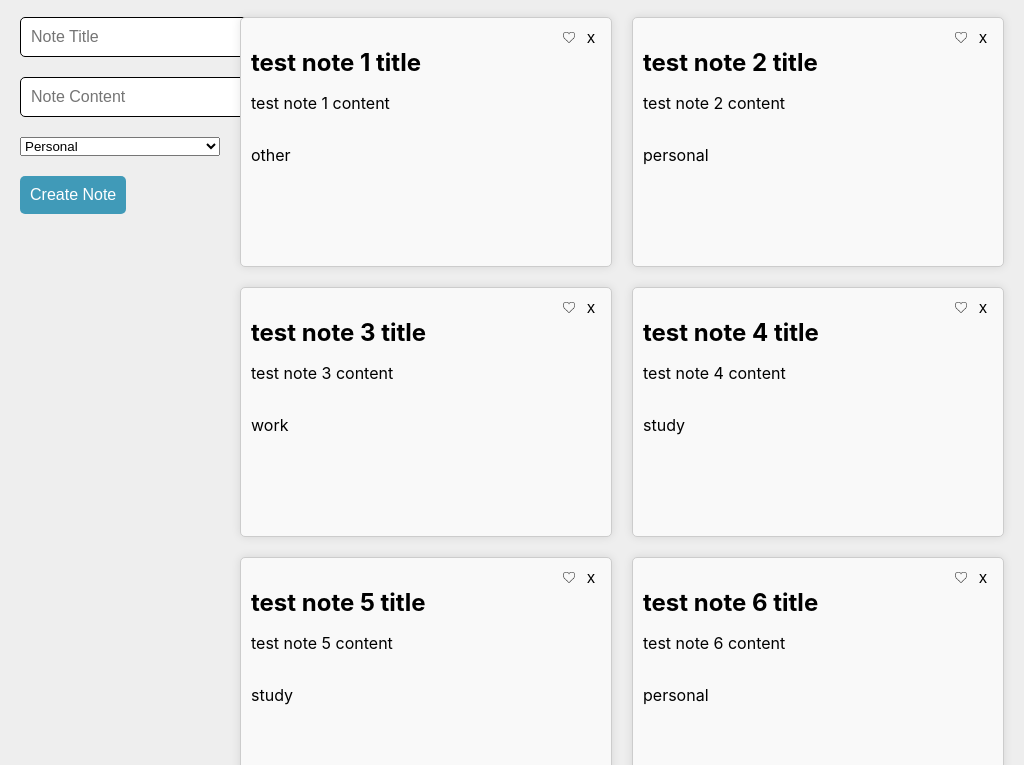
Scenario: Create StickyNote › what you put in form matches what is in the sticky note
Step 1. Type "Test Note" into the field with placeholder "Note Title" → (134, 37), box [20,17,249,57]
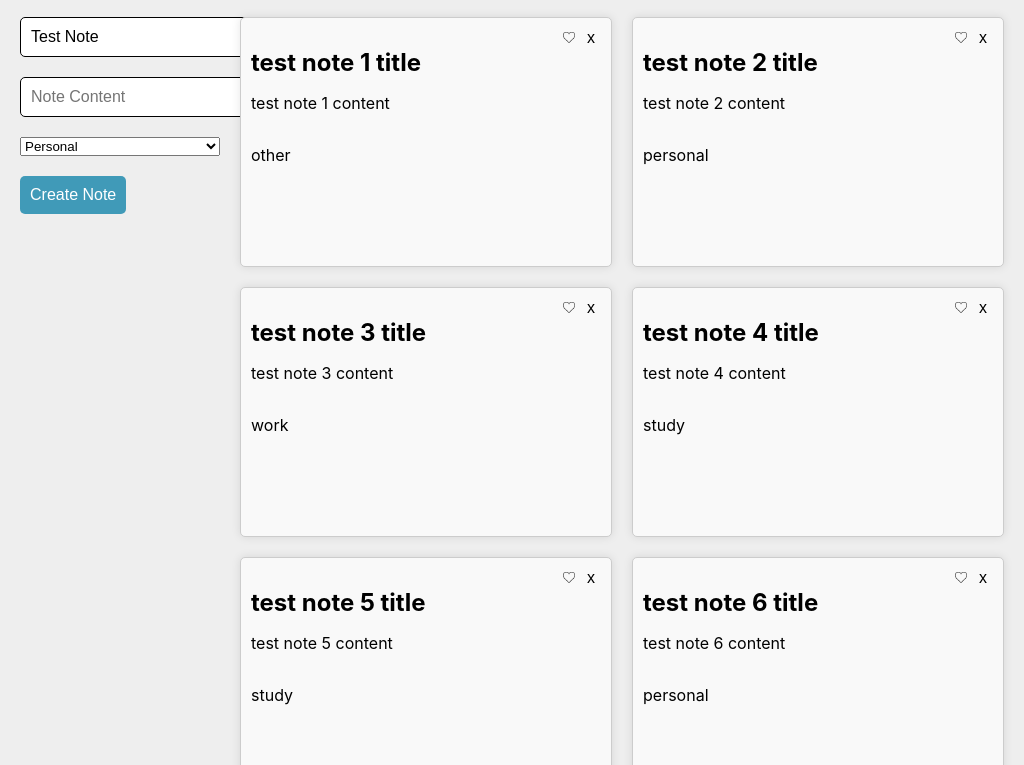
Step 2. Type "Test Content" into the field with placeholder "Note Content" → (134, 97), box [20,77,249,117]
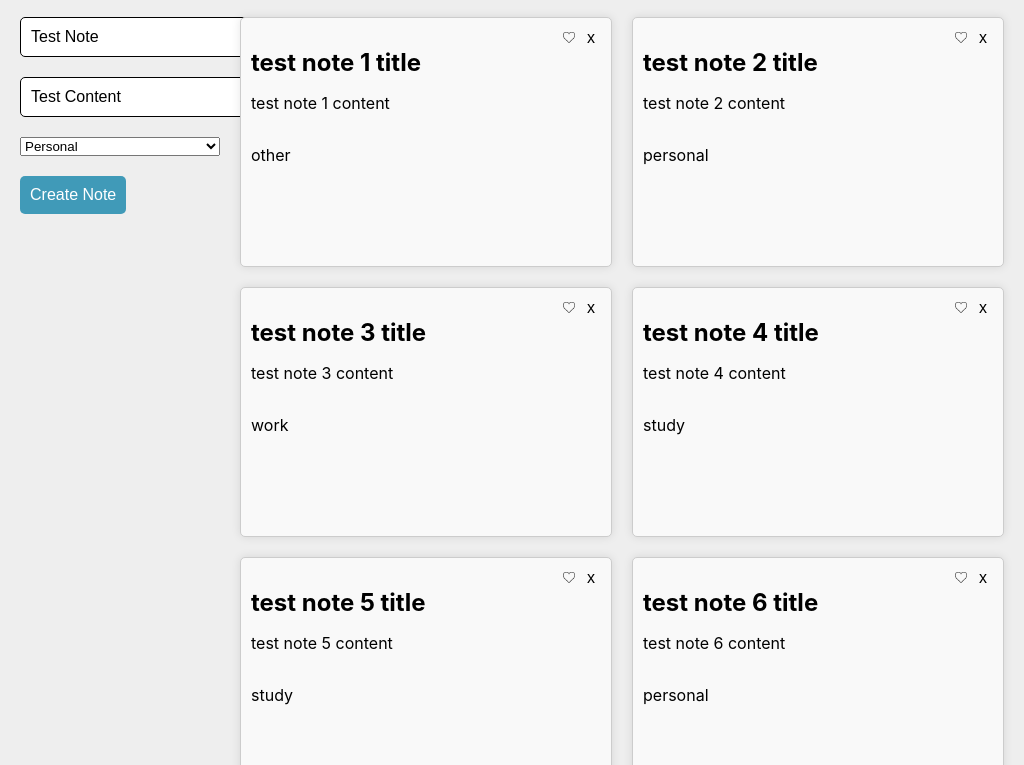
Step 3. Select "Study" in the dropdown with test id "note-label-dropdown" → (120, 146), box [20,137,220,156]
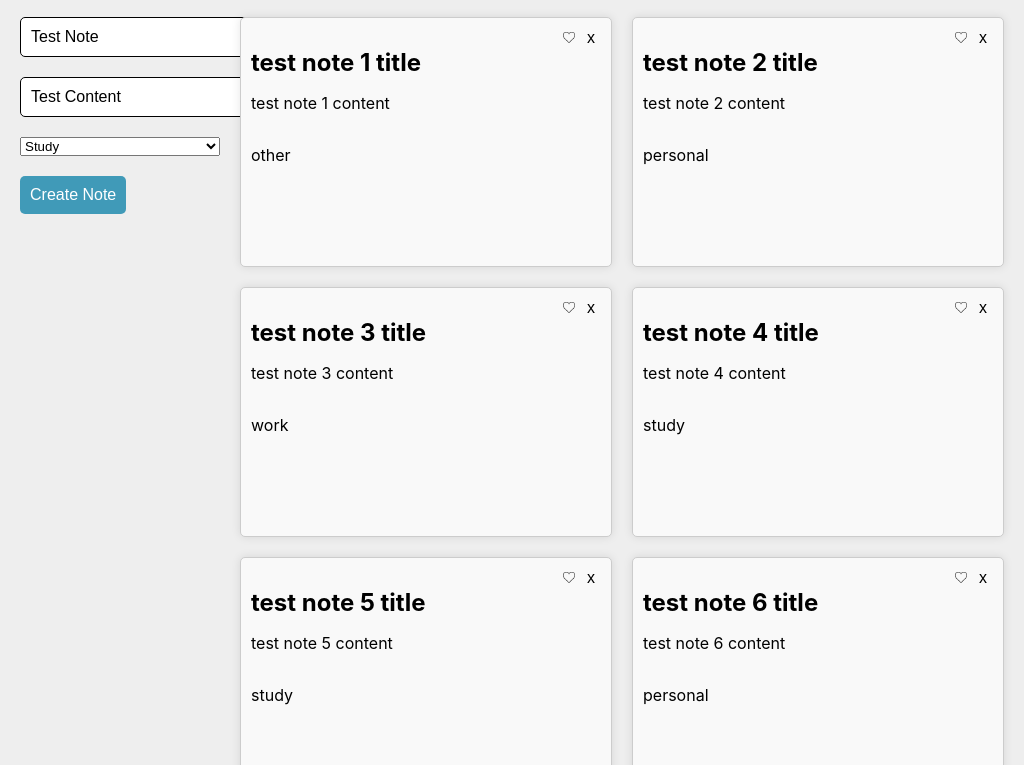
Step 4. Click the button "Create Note" → (73, 195), box [20,176,126,214]
(page scrolled)
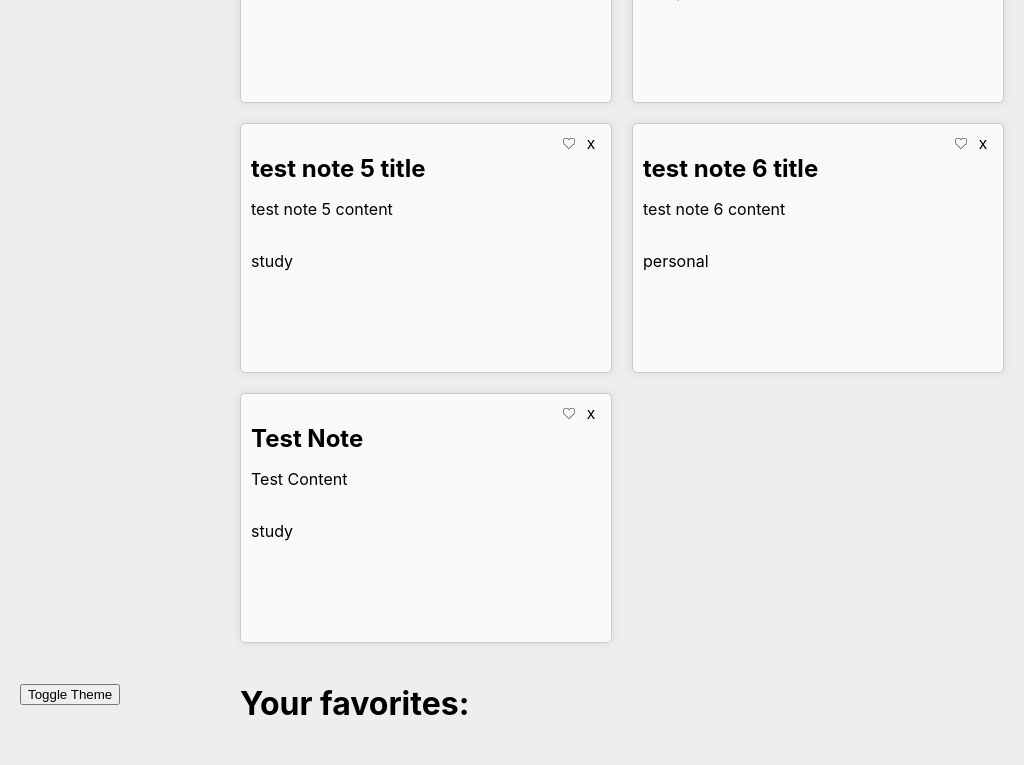
Expected: the heading "Test Note" is shown, [251,424,363,453]
Expected: the text box "Test Content" is shown, [251,469,347,489]
